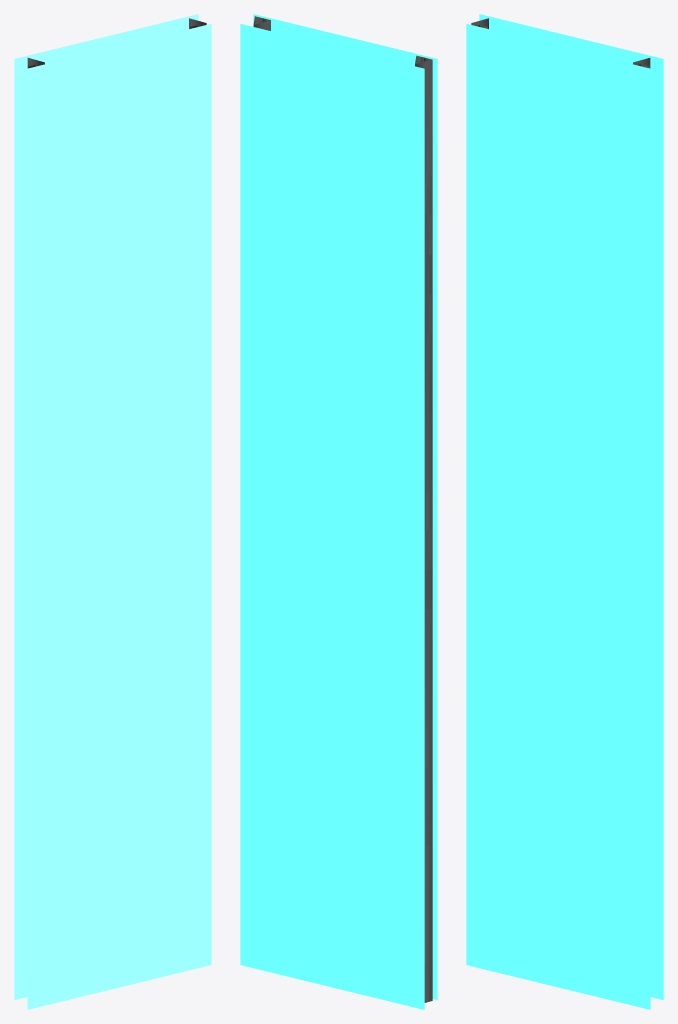
Rendered from vt49_ladder_l3.fbx.
3 renders of one model, left to right at view 1: azimuth 30°, elevation 25°; view 2: azimuth 150°, elevation 25°; view 3: azimuth 330°, elevation 25°, orthographic.
Parts seen in each view (by area): view 1: mesh_node; view 2: mesh_node; view 3: mesh_node.
Boxes of the visible parts, bbox=[...] form: mesh_node: bbox=[14, 14, 211, 1009]; mesh_node: bbox=[240, 14, 437, 1009]; mesh_node: bbox=[466, 14, 663, 1009].
Bounding box in the file's own units: 0.5345 × 2.61 × 0.0664.
Materials: 2 (1 with a texture image).
